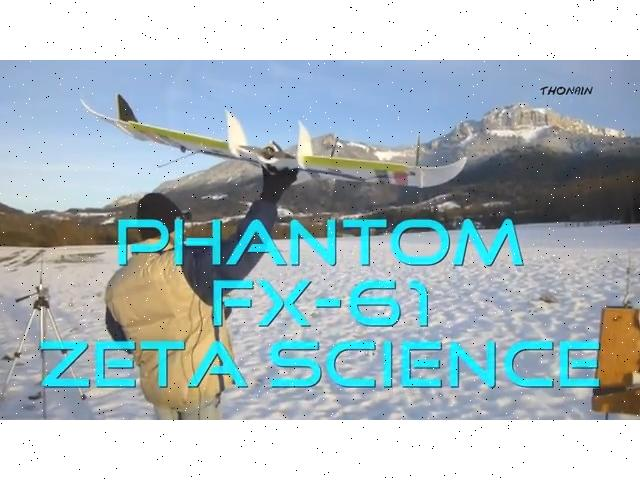Anti-Drone: (66, 90, 484, 206)
